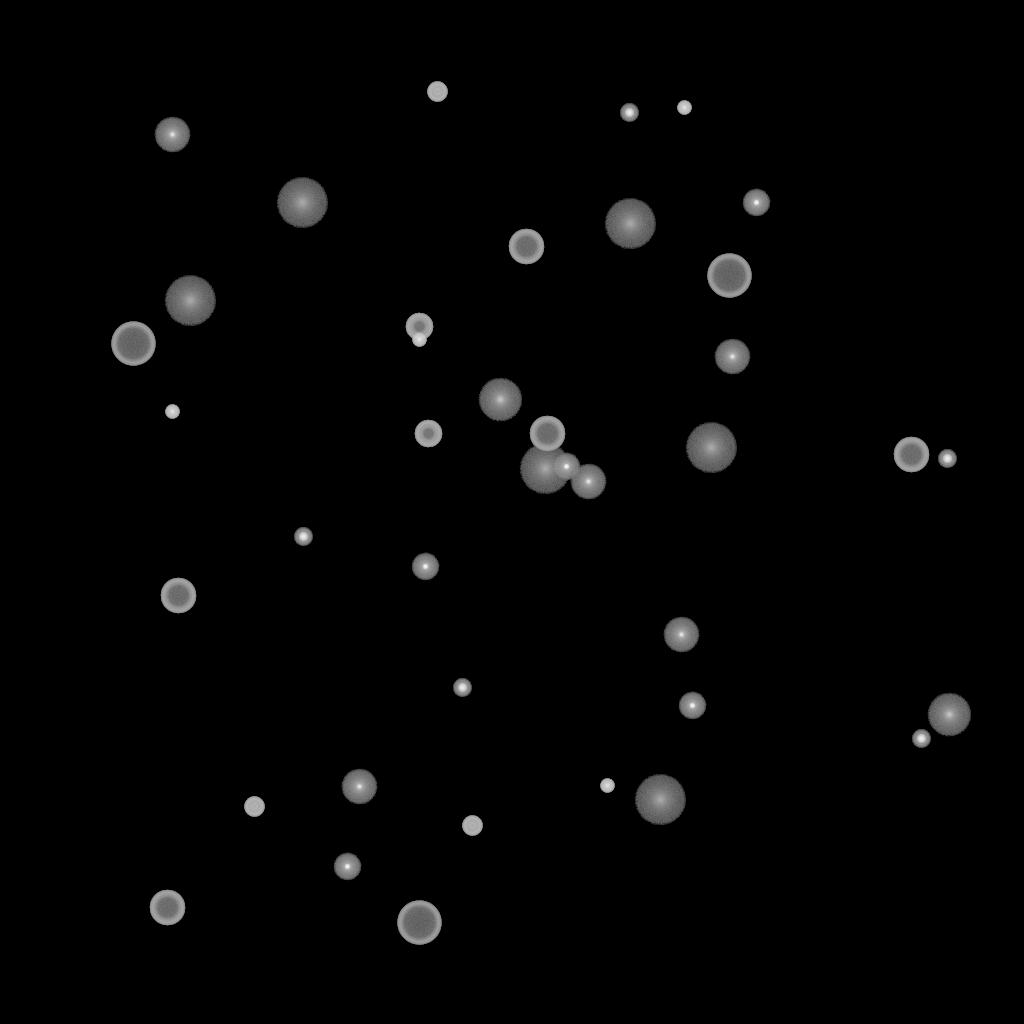depth:-10: (552, 453, 580, 481), (333, 853, 361, 881), (411, 553, 439, 581), (678, 692, 706, 720), (742, 189, 770, 217)
depth:-20: (620, 104, 638, 122), (294, 528, 312, 546), (938, 450, 956, 468), (912, 730, 930, 748), (453, 679, 471, 697)
depth:-30: (165, 405, 179, 419), (600, 779, 614, 793), (677, 101, 691, 115), (412, 333, 426, 347)
depth:-40: (427, 82, 447, 102), (462, 816, 482, 836), (244, 797, 264, 817)
depth:-50: (414, 420, 442, 448), (405, 313, 433, 341)
depth:-60: (149, 890, 185, 926), (529, 416, 565, 452), (508, 229, 544, 265), (893, 437, 929, 473), (160, 578, 196, 614)
depth:-70: (111, 322, 155, 366), (707, 254, 751, 298), (397, 901, 441, 945)
depth:0: (341, 769, 377, 805), (570, 464, 606, 500), (154, 117, 190, 153), (663, 617, 699, 653), (714, 339, 750, 375)
depth:10: (478, 378, 522, 422), (927, 693, 971, 737)
depth:20: (604, 199, 656, 249), (634, 775, 686, 825), (276, 178, 328, 228), (685, 423, 737, 473), (519, 444, 571, 494), (164, 276, 216, 326)
